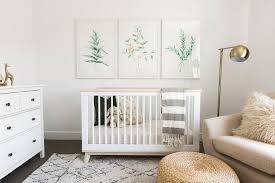crib: (81, 85, 201, 159)
